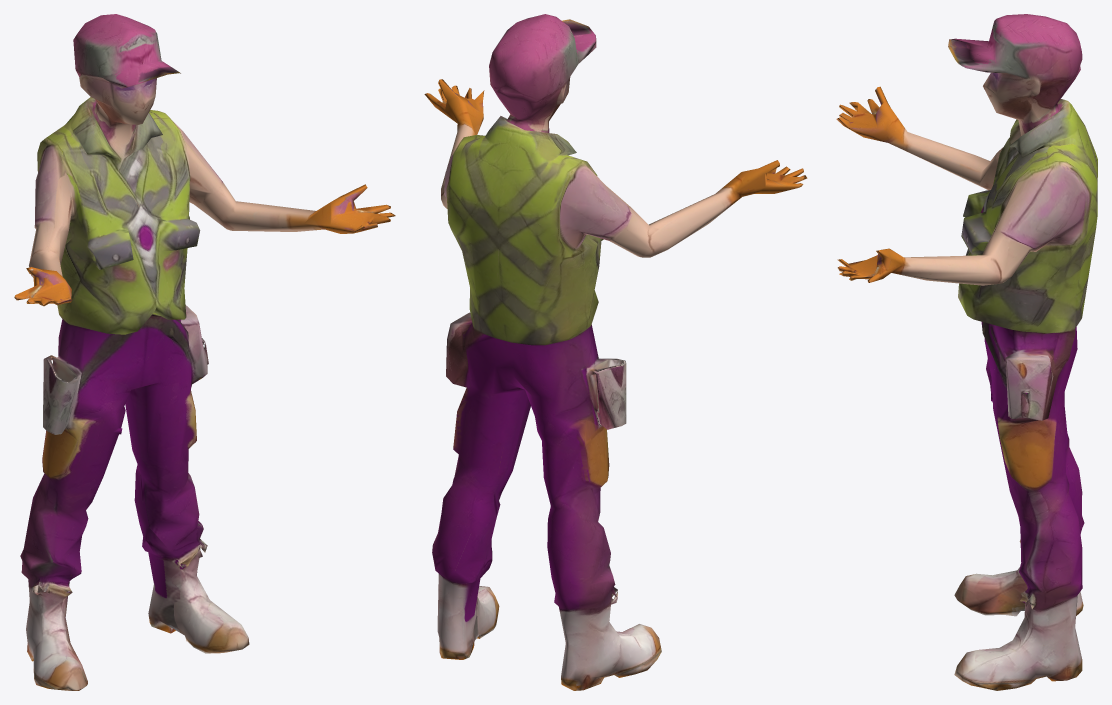
File: fuse.glb
3 renders of one model, left to right at view 1: azimuth 30°, elevation 25°; view 2: azimuth 150°, elevation 25°; view 3: azimuth 270°, elevation 25°, orthographic.
Bounding box in the file's own units: 1.18 × 1.9 × 0.7171.
Materials: 1 (1 with a texture image).
